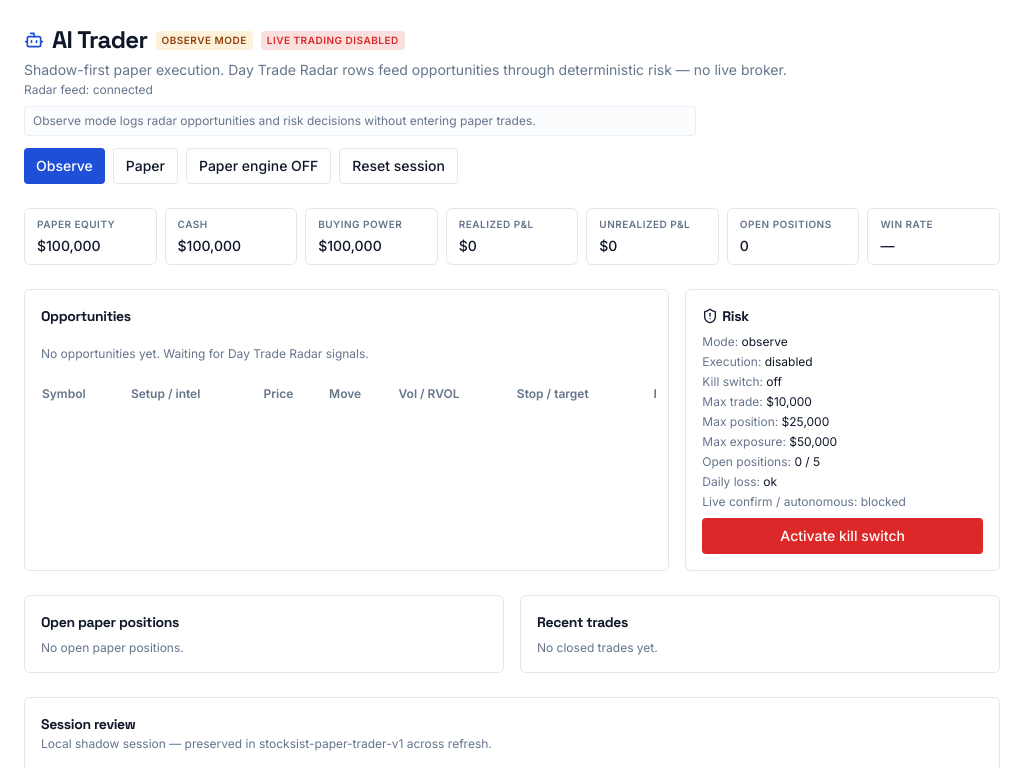
Test: AiTraderPage shadow dashboard › allows toggling paper mode and kill switch without live controls
Click the button "Paper" at (145, 166), box [113, 148, 178, 184]
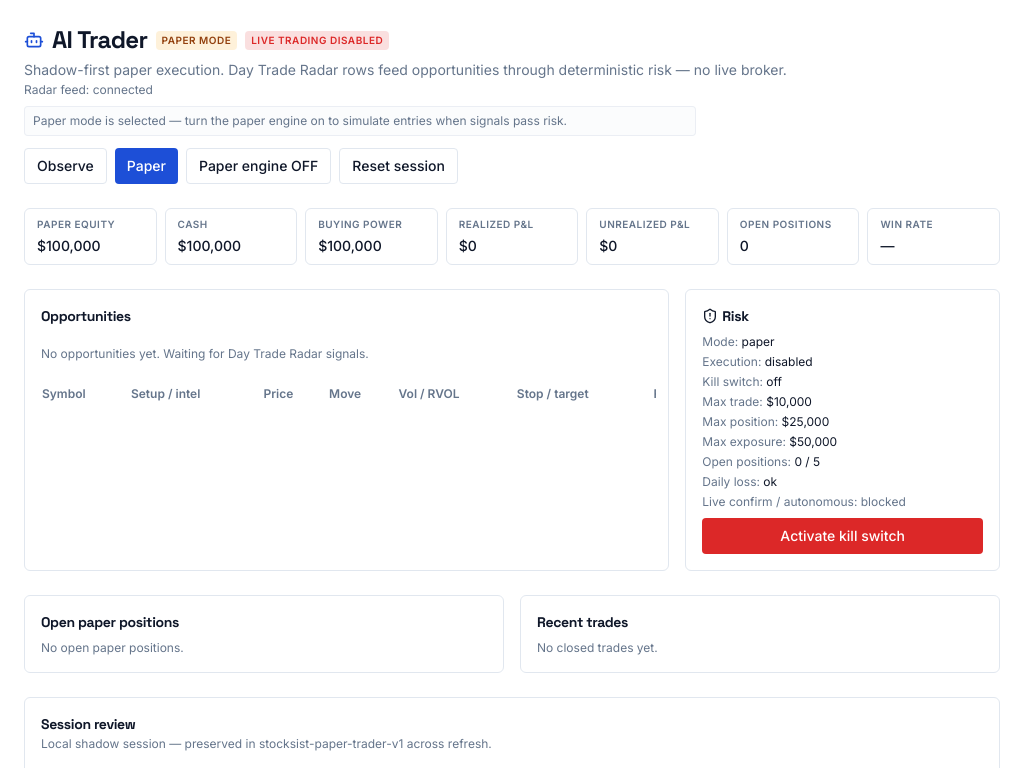
Check: the text "PAPER MODE" is shown, box [156, 30, 237, 50]
Click the button "Activate kill switch" at (843, 536), box [702, 518, 983, 554]
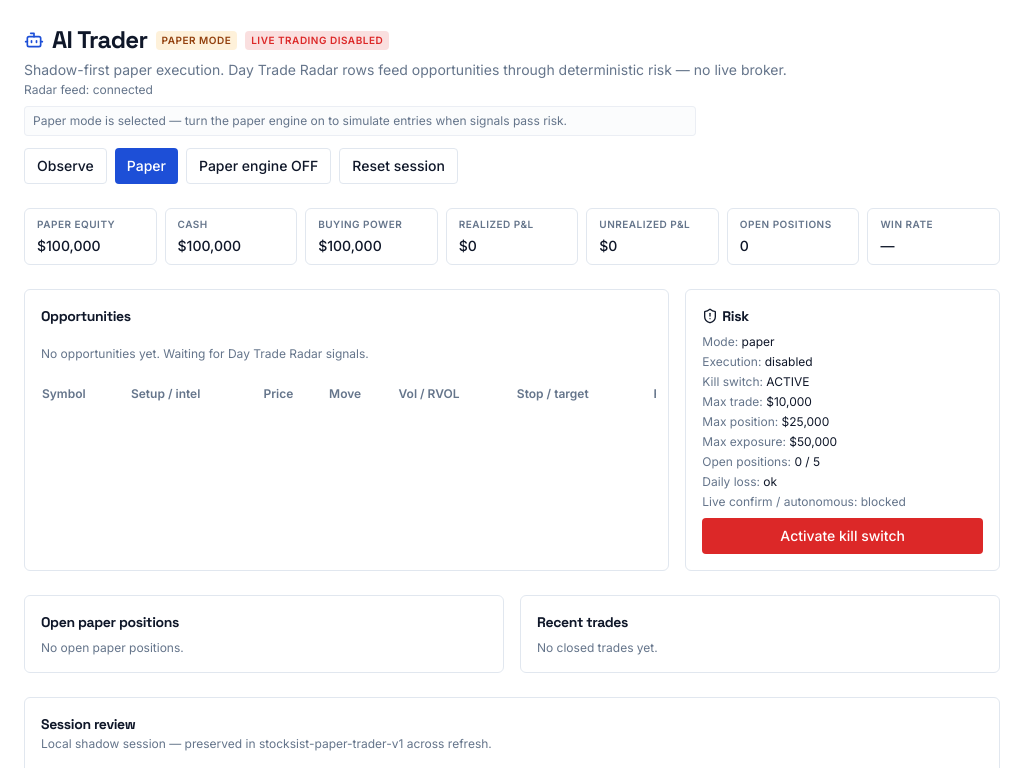
Check: the text "ACTIVE" is shown, box [766, 374, 809, 389]
